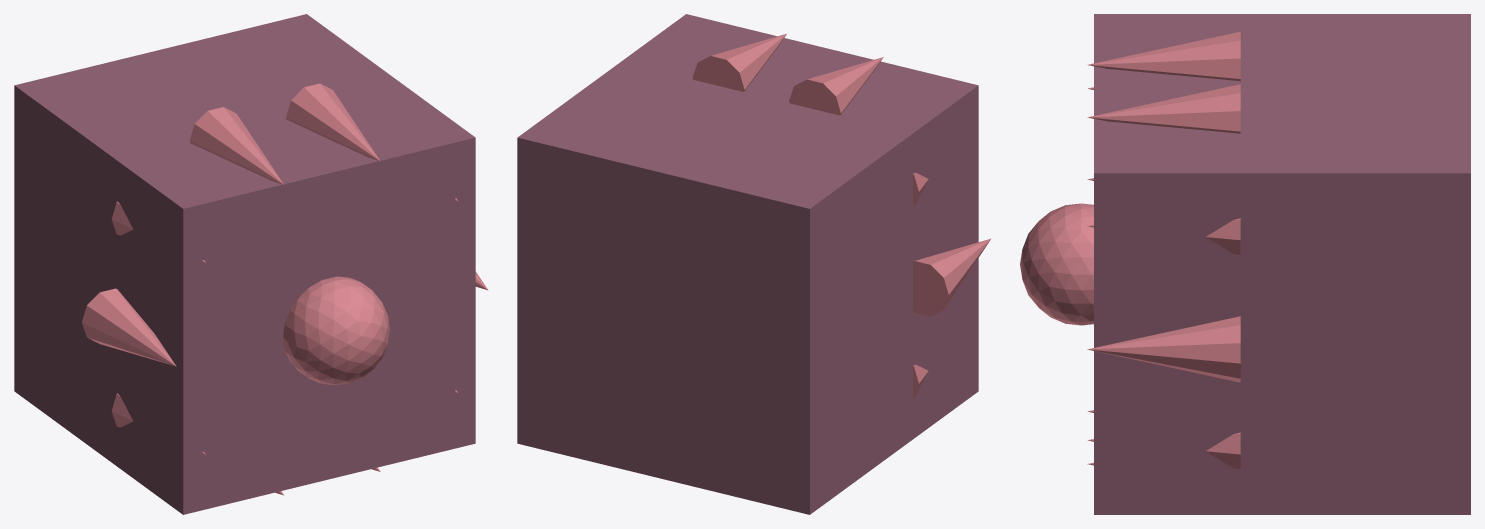
Rendered from spike_trap.glb.
3 views of the same model, side by side, from view 1: azimuth 30°, elevation 25°; view 2: azimuth 150°, elevation 25°; view 3: azimuth 270°, elevation 25° (orthographic). The views are drawn at different scales.
Visible parts, largest first — view 1: world; view 2: world; view 3: world.
Part boxes in pixels (x1,y1,x2,y2): world: [14, 14, 488, 514]; world: [517, 14, 991, 514]; world: [1020, 14, 1470, 514].
Size of the model in its own units: 1.68 by 1.6 by 1.62.
